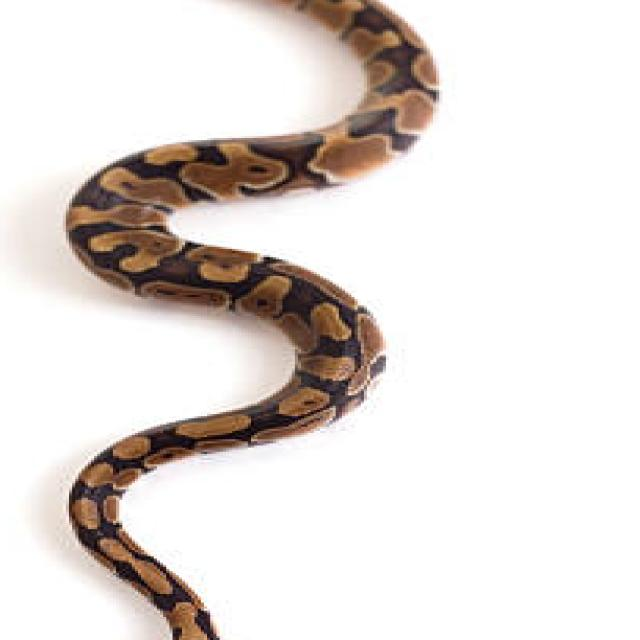Snake: (25, 0, 442, 640)
